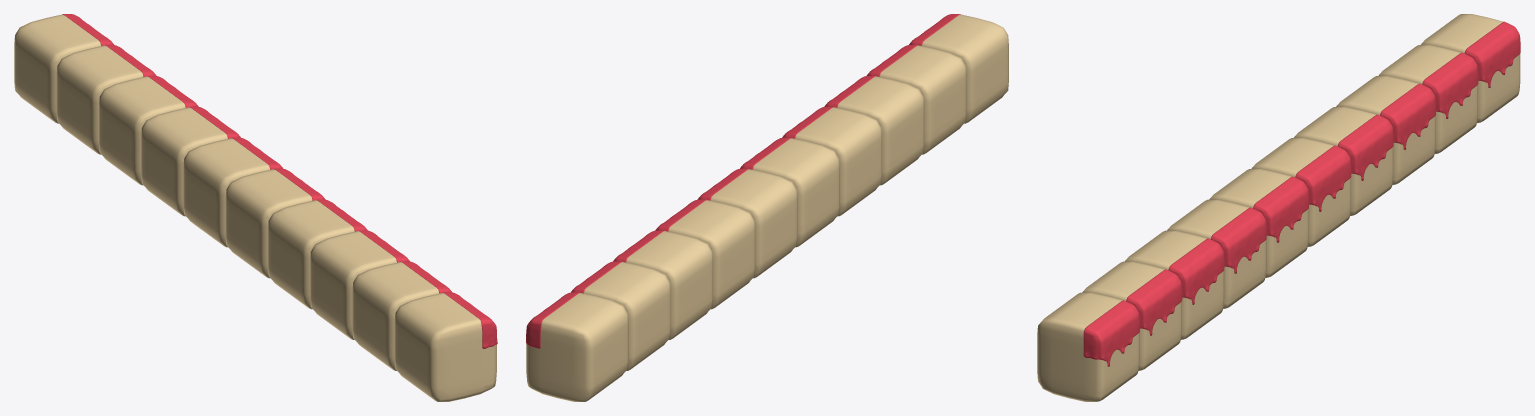
Rendered from Wafer_Test.fbx.
3 renders of one model, left to right at view 1: azimuth 30°, elevation 25°; view 2: azimuth 150°, elevation 25°; view 3: azimuth 330°, elevation 25°, orthographic.
Parts seen in each view (by area): view 1: Wall; view 2: Wall; view 3: Wall.
Part boxes in pixels (x1=…): Wall: x1=14, y1=14, x2=497, y2=401; Wall: x1=526, y1=14, x2=1008, y2=401; Wall: x1=1037, y1=14, x2=1520, y2=401.
Size of the model in its own units: 189 by 200 by 2038.
